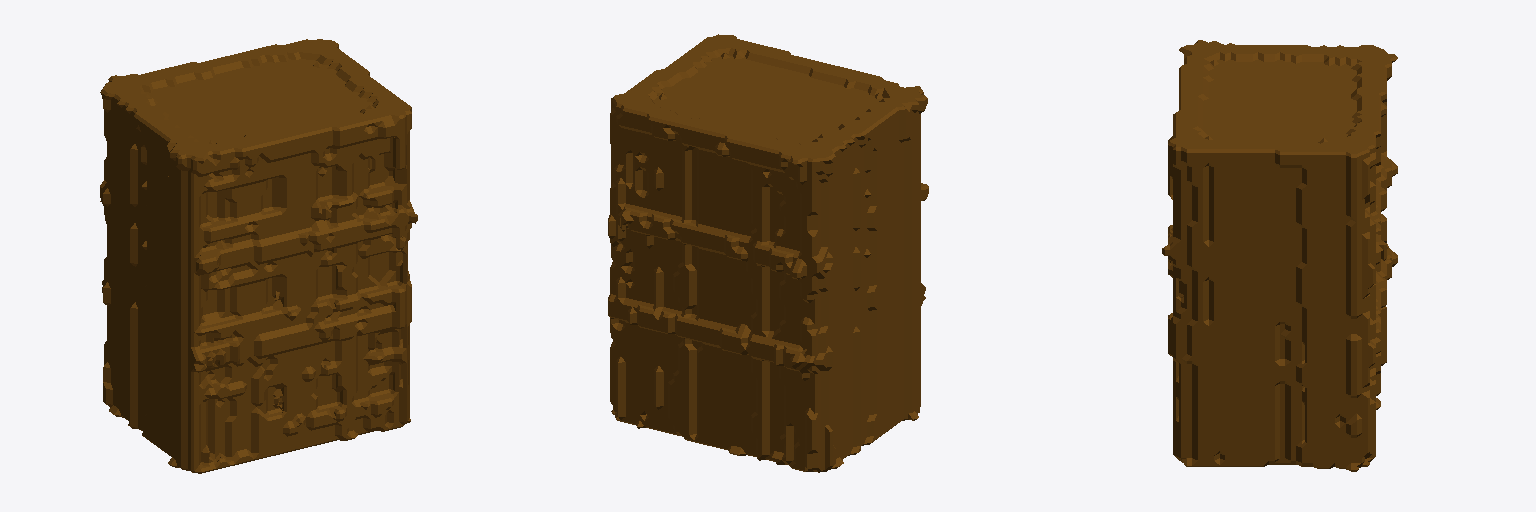
The model's file is gen5_colored.obj.
3 renders of one model, left to right at view 1: azimuth 30°, elevation 25°; view 2: azimuth 150°, elevation 25°; view 3: azimuth 270°, elevation 25°, orthographic.
Visible parts, largest first — view 1: gen5.obj; view 2: gen5.obj; view 3: gen5.obj.
Boxes of the visible parts, box(x1,y1,x2,y2) form: gen5.obj: box(100, 39, 417, 473); gen5.obj: box(608, 34, 928, 472); gen5.obj: box(1162, 40, 1397, 471).
Size of the model in its own units: 50 by 64 by 43.